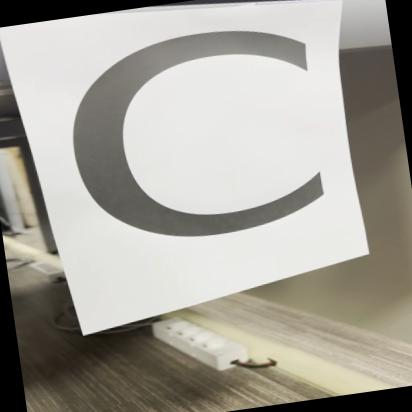seat: (2, 1, 368, 292)
